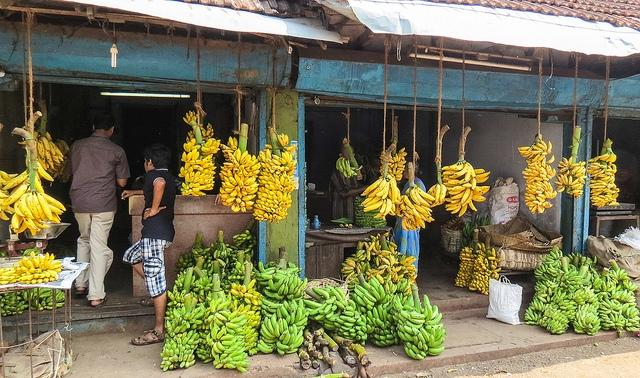banana: (178, 108, 220, 196), (1, 183, 30, 206), (2, 173, 29, 192), (32, 190, 48, 222), (40, 193, 66, 212), (19, 190, 35, 220), (26, 190, 41, 219), (389, 180, 398, 204), (462, 188, 474, 206), (356, 284, 374, 296), (36, 141, 46, 162), (410, 187, 421, 206), (413, 201, 429, 214), (364, 200, 384, 210), (364, 196, 382, 207), (406, 319, 424, 330), (302, 299, 322, 308), (365, 268, 386, 276), (450, 190, 466, 199), (227, 310, 240, 321), (420, 328, 430, 342), (404, 195, 414, 209), (379, 198, 387, 214), (434, 183, 440, 204), (379, 284, 386, 302), (416, 332, 426, 344), (556, 292, 566, 304), (47, 152, 54, 169), (275, 276, 284, 289), (380, 188, 390, 199), (405, 205, 415, 216), (286, 333, 294, 346), (406, 293, 414, 306), (621, 302, 629, 315), (435, 326, 442, 340), (229, 176, 238, 186), (282, 300, 290, 311), (540, 140, 548, 151), (17, 304, 28, 312), (318, 309, 332, 315), (274, 293, 286, 300), (344, 158, 350, 172), (229, 342, 243, 348), (376, 318, 386, 326), (412, 327, 422, 335), (348, 300, 356, 310), (547, 260, 557, 268), (612, 270, 620, 280), (332, 309, 342, 317), (305, 304, 318, 310), (233, 173, 240, 184), (451, 186, 466, 191), (220, 335, 235, 340), (208, 264, 214, 276), (534, 182, 544, 189), (186, 330, 193, 340), (180, 306, 186, 317), (18, 216, 23, 229), (220, 353, 228, 361), (473, 186, 482, 193), (570, 183, 582, 188), (536, 186, 546, 192), (238, 310, 248, 316), (584, 302, 590, 312), (338, 159, 343, 171), (448, 179, 460, 184), (577, 177, 585, 184), (570, 178, 578, 185), (597, 168, 605, 175), (570, 190, 584, 194), (264, 184, 272, 191), (224, 349, 235, 354), (190, 275, 196, 284), (238, 180, 244, 189), (274, 273, 287, 277), (600, 175, 610, 180), (29, 267, 36, 274), (266, 198, 274, 204), (330, 305, 338, 311), (250, 300, 258, 306), (268, 190, 276, 196), (535, 296, 540, 305), (390, 254, 394, 265), (397, 274, 404, 280), (190, 282, 197, 288), (544, 191, 550, 198), (35, 268, 42, 274), (27, 274, 34, 280), (609, 176, 615, 183), (172, 320, 176, 330), (192, 328, 197, 336), (601, 316, 611, 320), (534, 164, 539, 172), (46, 306, 56, 310), (550, 269, 558, 274), (173, 354, 178, 362), (548, 287, 552, 296), (490, 264, 496, 270), (206, 249, 212, 255), (571, 164, 580, 168), (198, 251, 207, 255), (569, 284, 575, 290), (32, 274, 40, 278), (358, 272, 366, 276), (240, 174, 244, 182), (286, 316, 290, 324), (604, 189, 612, 193), (230, 250, 238, 254), (582, 318, 586, 326), (395, 154, 399, 162), (393, 162, 398, 168), (547, 174, 552, 180), (384, 255, 390, 260), (546, 281, 551, 287), (536, 195, 546, 198), (254, 316, 261, 320), (588, 316, 592, 323), (391, 326, 396, 331), (466, 271, 471, 276), (236, 186, 240, 192), (387, 266, 391, 272), (47, 302, 53, 306), (586, 287, 590, 293), (604, 195, 612, 198), (474, 259, 478, 264), (390, 163, 394, 168), (454, 278, 458, 283), (240, 276, 245, 280), (227, 248, 233, 251), (591, 302, 595, 306), (616, 298, 620, 302), (371, 252, 376, 255), (485, 277, 488, 282), (459, 281, 463, 284), (476, 266, 480, 268), (460, 252, 464, 254), (558, 308, 560, 310)
